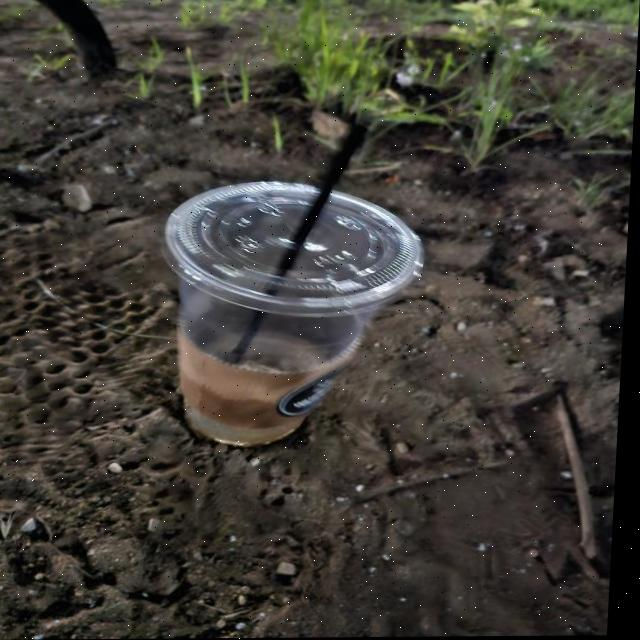cup: (149, 175, 431, 457)
